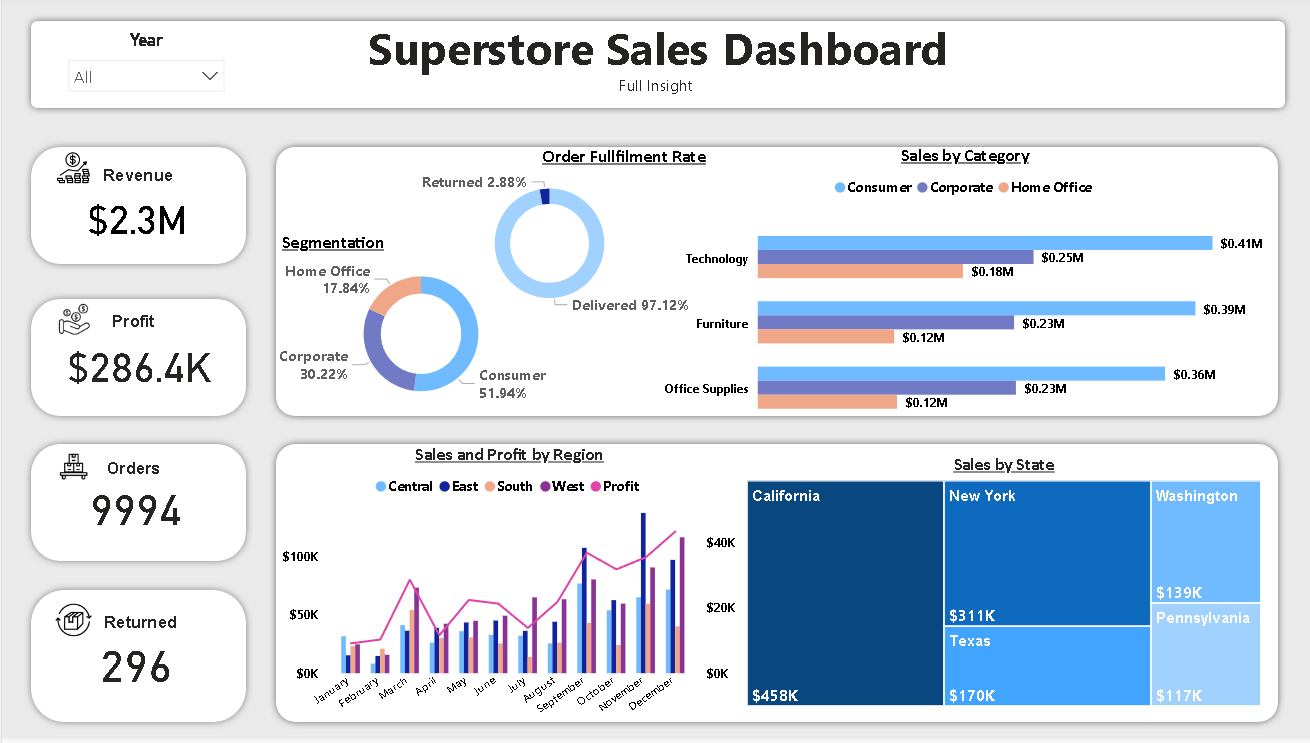

The dashboard page shown, as its layout file describes it:
{"tool":"powerbi","page":{"name":"Sales Insight","canvas":[1280,720],"ordinal":0},"visuals":[{"type":"shape","box":[21.4,139.1,222.7,127.4],"z":0},{"type":"shape","box":[259.7,139.1,988.2,275.3],"z":1000},{"type":"shape","box":[21.4,570,222.7,142],"z":2000},{"type":"shape","box":[21.4,428,222.7,127.4],"z":3000},{"type":"shape","box":[21.4,286.9,222.7,127.4],"z":4000},{"type":"shape","box":[259.7,428,988.2,284],"z":5000},{"type":"shape","box":[21.4,16.5,1233.3,98.2],"z":6000},{"type":"textbox","box":[241.2,14.6,793.7,89.5],"z":7000},{"type":"textbox","box":[578.7,70,114.8,31.1],"z":8000},{"type":"card","title":"Revenue","fields":{"Values":["All Measures.Total Revenue"]},"box":[37.7,174.6,186.2,75.4],"z":9000},{"type":"card","title":"Returned","fields":{"Values":["All Measures.Return"]},"box":[45.4,603.8,169.2,85.4],"z":10000},{"type":"card","title":"Quantity","fields":{"Values":["All Measures.Quantity"]},"box":[26.2,452.3,207.7,84.6],"z":11000},{"type":"card","title":"Profit","fields":{"Values":["All Measures.Total Profit"]},"box":[40,316.9,186.9,78.5],"z":12000},{"type":"textbox","box":[93,159,110,30],"z":13000},{"type":"textbox","box":[102.1,300.5,123.5,37],"z":14000},{"type":"textbox","box":[97.3,443.5,117.7,33.1],"z":15000},{"type":"textbox","box":[94.6,593.1,146.9,30],"z":16000},{"type":"image","box":[40,144,58,45],"z":17000},{"type":"image","box":[39,285,63,57],"z":18000},{"type":"image","box":[45.4,432.3,48.5,49.2],"z":19000},{"type":"image","box":[45.4,579.2,48.5,51.5],"z":20000},{"type":"donutChart","title":"Segmentation","fields":{"Y":["CountNonNull(Orders.Segment)"],"Series":["Orders.Segment"]},"box":[267.5,228.6,280.1,177],"z":21000},{"type":"clusteredBarChart","title":"Sales by Category","fields":{"Y":["Sum(Orders.Sales)"],"Category":["Orders.Category"],"Series":["Orders.Segment"]},"box":[636.1,144,601.1,290.8],"z":22000},{"type":"lineClusteredColumnComboChart","title":"Sales and Profit by Region","fields":{"Category":["Orders.Order Date.Variation.Date Hierarchy.Month"],"Y":["Sum(Orders.Sales)"],"Y2":["Sum(Orders.Profit)"],"Series":["Orders.Region"]},"box":[267.5,434.8,452.3,275.3],"z":23000},{"type":"treemap","title":"Sales by State","fields":{"Values":["Sum(Orders.Sales)"],"Group":["Orders.State"]},"box":[719.8,444.5,509.7,250],"z":24000},{"type":"slicer","title":"Year","fields":{"Values":["Orders.Order Date.Variation.Date Hierarchy.Year"]},"box":[54.5,32.1,172.2,107],"z":25000},{"type":"donutChart","title":"Order Fullfilment Rate","fields":{"Y":["CountNonNull(Orders.Order ID)","CountNonNull(Returns.Order ID)"]},"box":[375.4,144.9,314.2,168.3],"z":26000}]}

Visuals, with their boxes in screenshot pixels (x1, y1, x2, y2), scaled from the page's 1280x720 canvas onto the 1310x743 screenshot:
shape: 22/144/250/275
shape: 266/144/1277/428
shape: 22/588/250/735
shape: 22/442/250/573
shape: 22/296/250/428
shape: 266/442/1277/735
shape: 22/17/1284/118
textbox: 247/15/1059/107
textbox: 592/72/710/104
"Revenue" card: 39/180/229/258
"Returned" card: 46/623/220/711
"Quantity" card: 27/467/239/554
"Profit" card: 41/327/232/408
textbox: 95/164/208/195
textbox: 104/310/231/348
textbox: 100/458/220/492
textbox: 97/612/247/643
image: 41/149/100/195
image: 40/294/104/353
image: 46/446/96/497
image: 46/598/96/651
"Segmentation" donutChart: 274/236/560/419
"Sales by Category" clusteredBarChart: 651/149/1266/449
"Sales and Profit by Region" lineClusteredColumnComboChart: 274/449/737/733
"Sales by State" treemap: 737/459/1258/717
"Year" slicer: 56/33/232/144
"Order Fullfilment Rate" donutChart: 384/150/706/323
